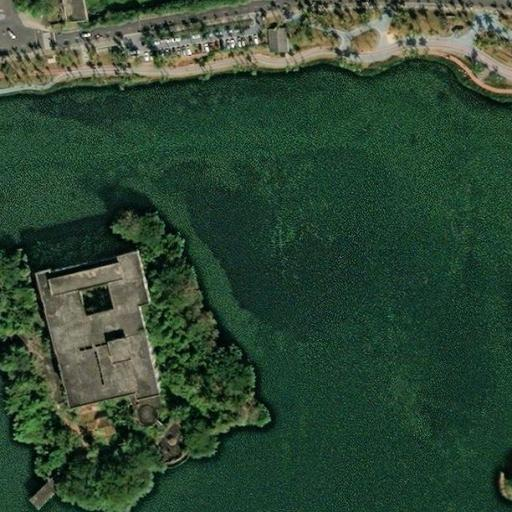building: (44, 254, 164, 414), (25, 475, 60, 510), (263, 21, 287, 52)
